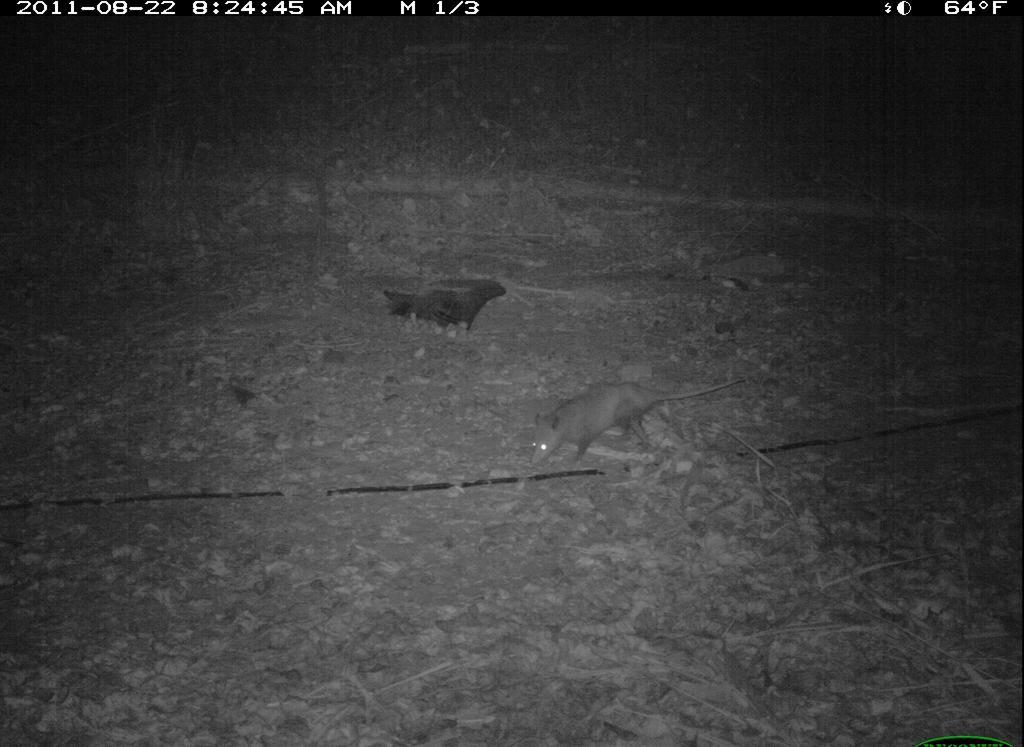opossum: (515, 367, 753, 478)
